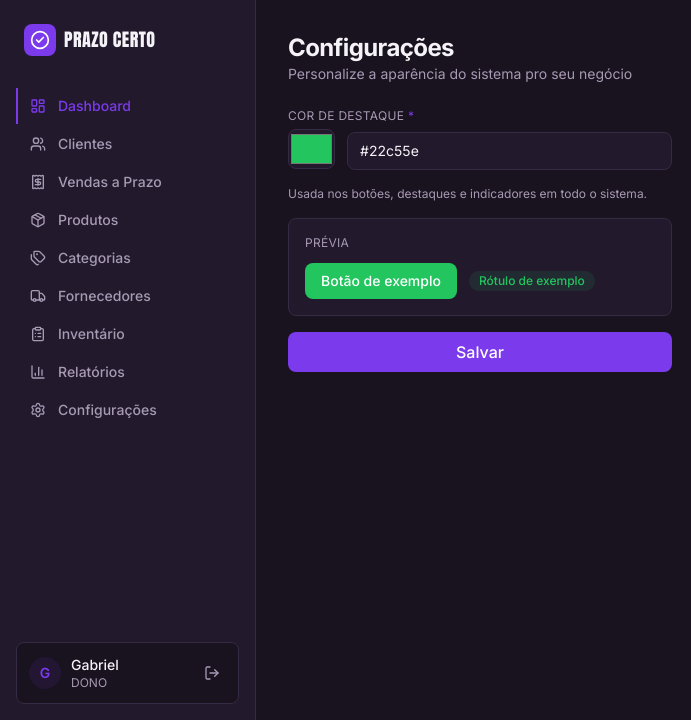
Test case: ConfiguracoesPage › salva a nova cor e mostra mensagem de sucesso
The image size is (691, 720).
Type "#ff0000" into the field with placeholder "#22c55e" at (510, 151), box [347,132,672,170]
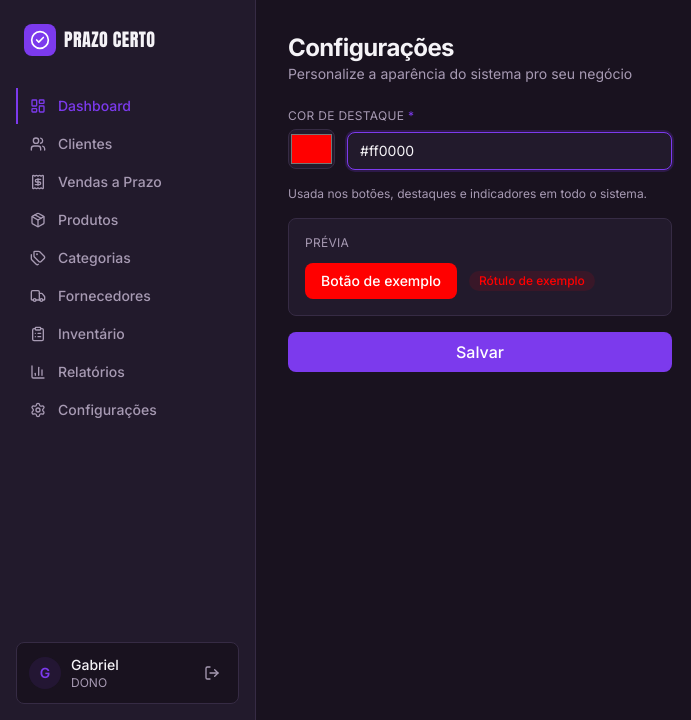
Click the button "Salvar" at (480, 352), box [288,332,672,372]
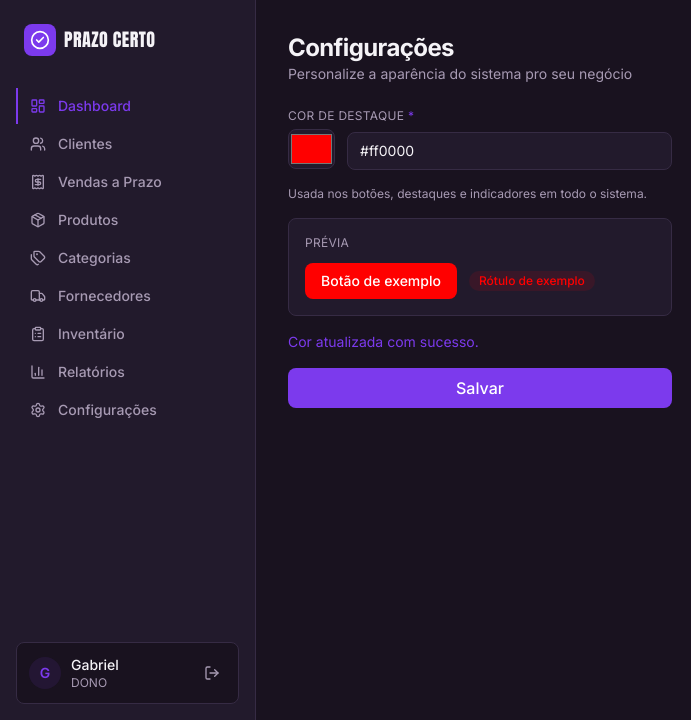
Expected: the text "Cor atualizada com sucesso." is shown, [288,333,479,350]
